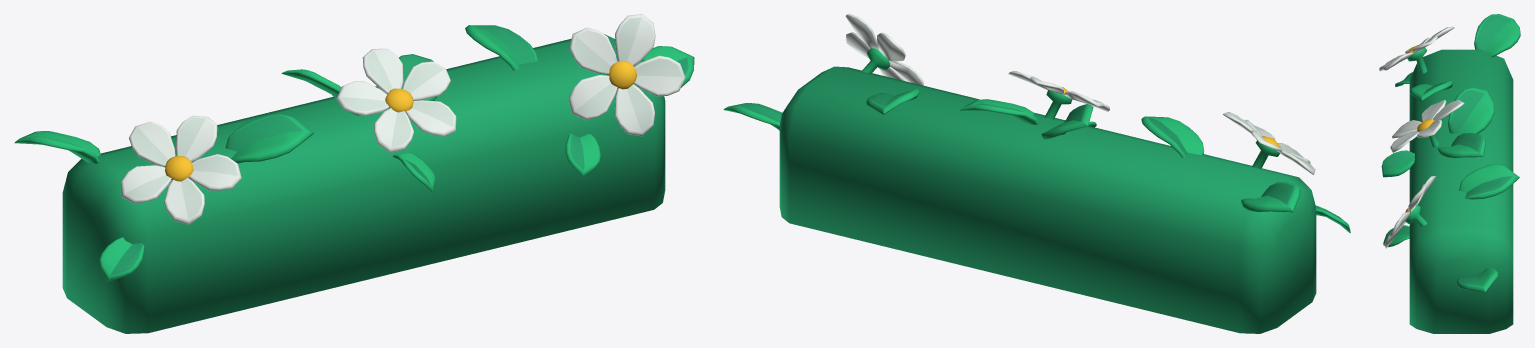
The model's file is WindowBush_White.glb.
The picture shows the model from 3 angles, left to right: view 1: azimuth 30°, elevation 25°; view 2: azimuth 150°, elevation 25°; view 3: azimuth 270°, elevation 25°; orthographic projection. The views are drawn at different scales.
Parts seen in each view (by area): view 1: WindowBush_White; view 2: WindowBush_White; view 3: WindowBush_White.
Boxes of the visible parts, bbox=[...] form: WindowBush_White: bbox=[14, 14, 694, 333]; WindowBush_White: bbox=[723, 14, 1350, 333]; WindowBush_White: bbox=[1379, 14, 1520, 333].
Size of the model in its own units: 0.8234 by 0.2303 by 0.215.
1 material, 1 textured.
